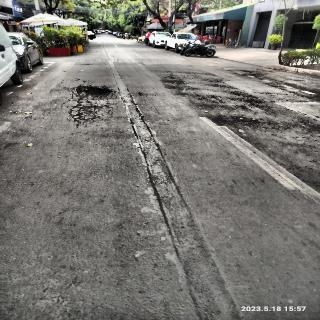alligator-crack: (68, 95, 114, 125)
crack: (79, 64, 92, 65)
pothole: (76, 85, 111, 96)
